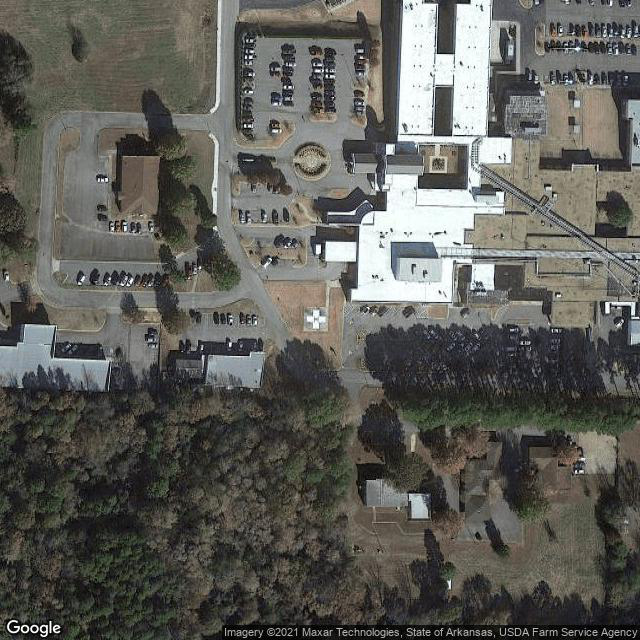Helipad: (301, 304, 329, 333)
